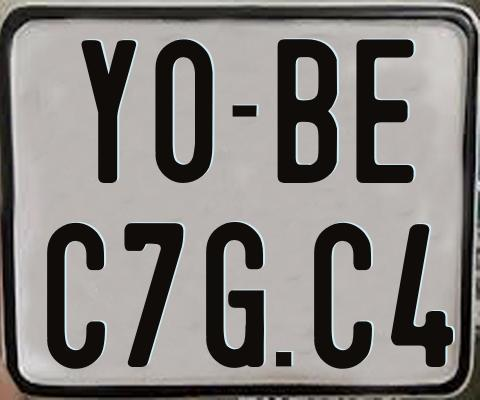0: (155, 39, 214, 186)
4: (389, 222, 452, 370)
7: (124, 223, 185, 371)
B: (277, 36, 341, 182)
C: (312, 220, 372, 372), (47, 220, 107, 367)
E: (356, 37, 414, 185)
G: (204, 219, 262, 369)
Y: (81, 40, 139, 184)
